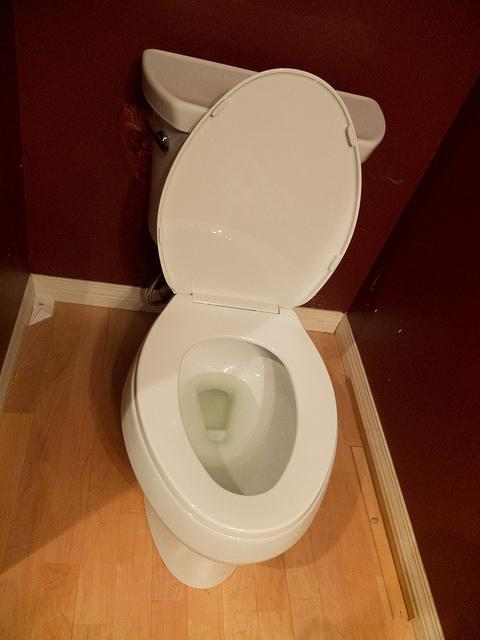Sanitario: (126, 56, 372, 605)
